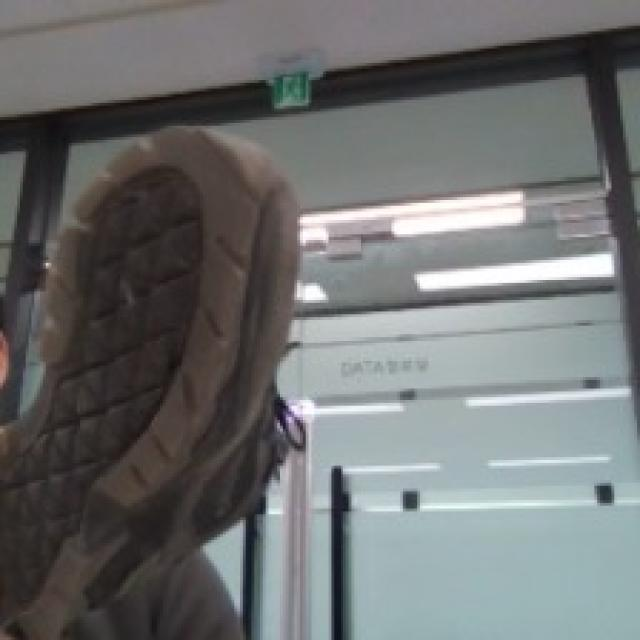shoes: (0, 117, 333, 640)
